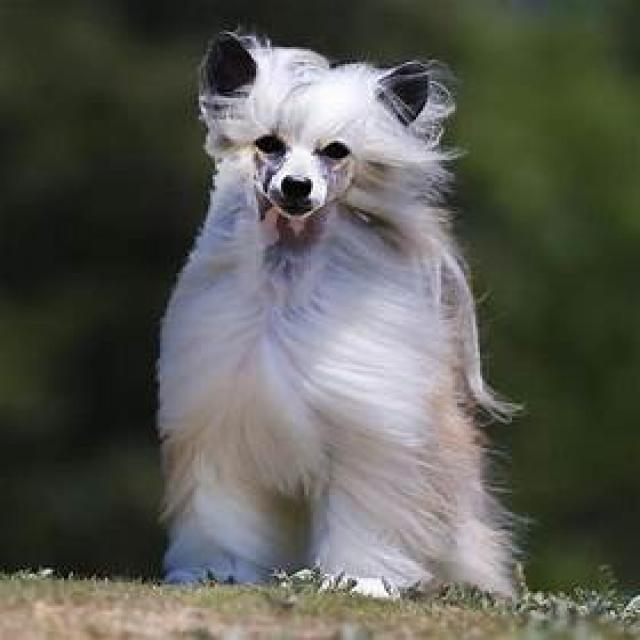dog: (160, 30, 528, 604)
